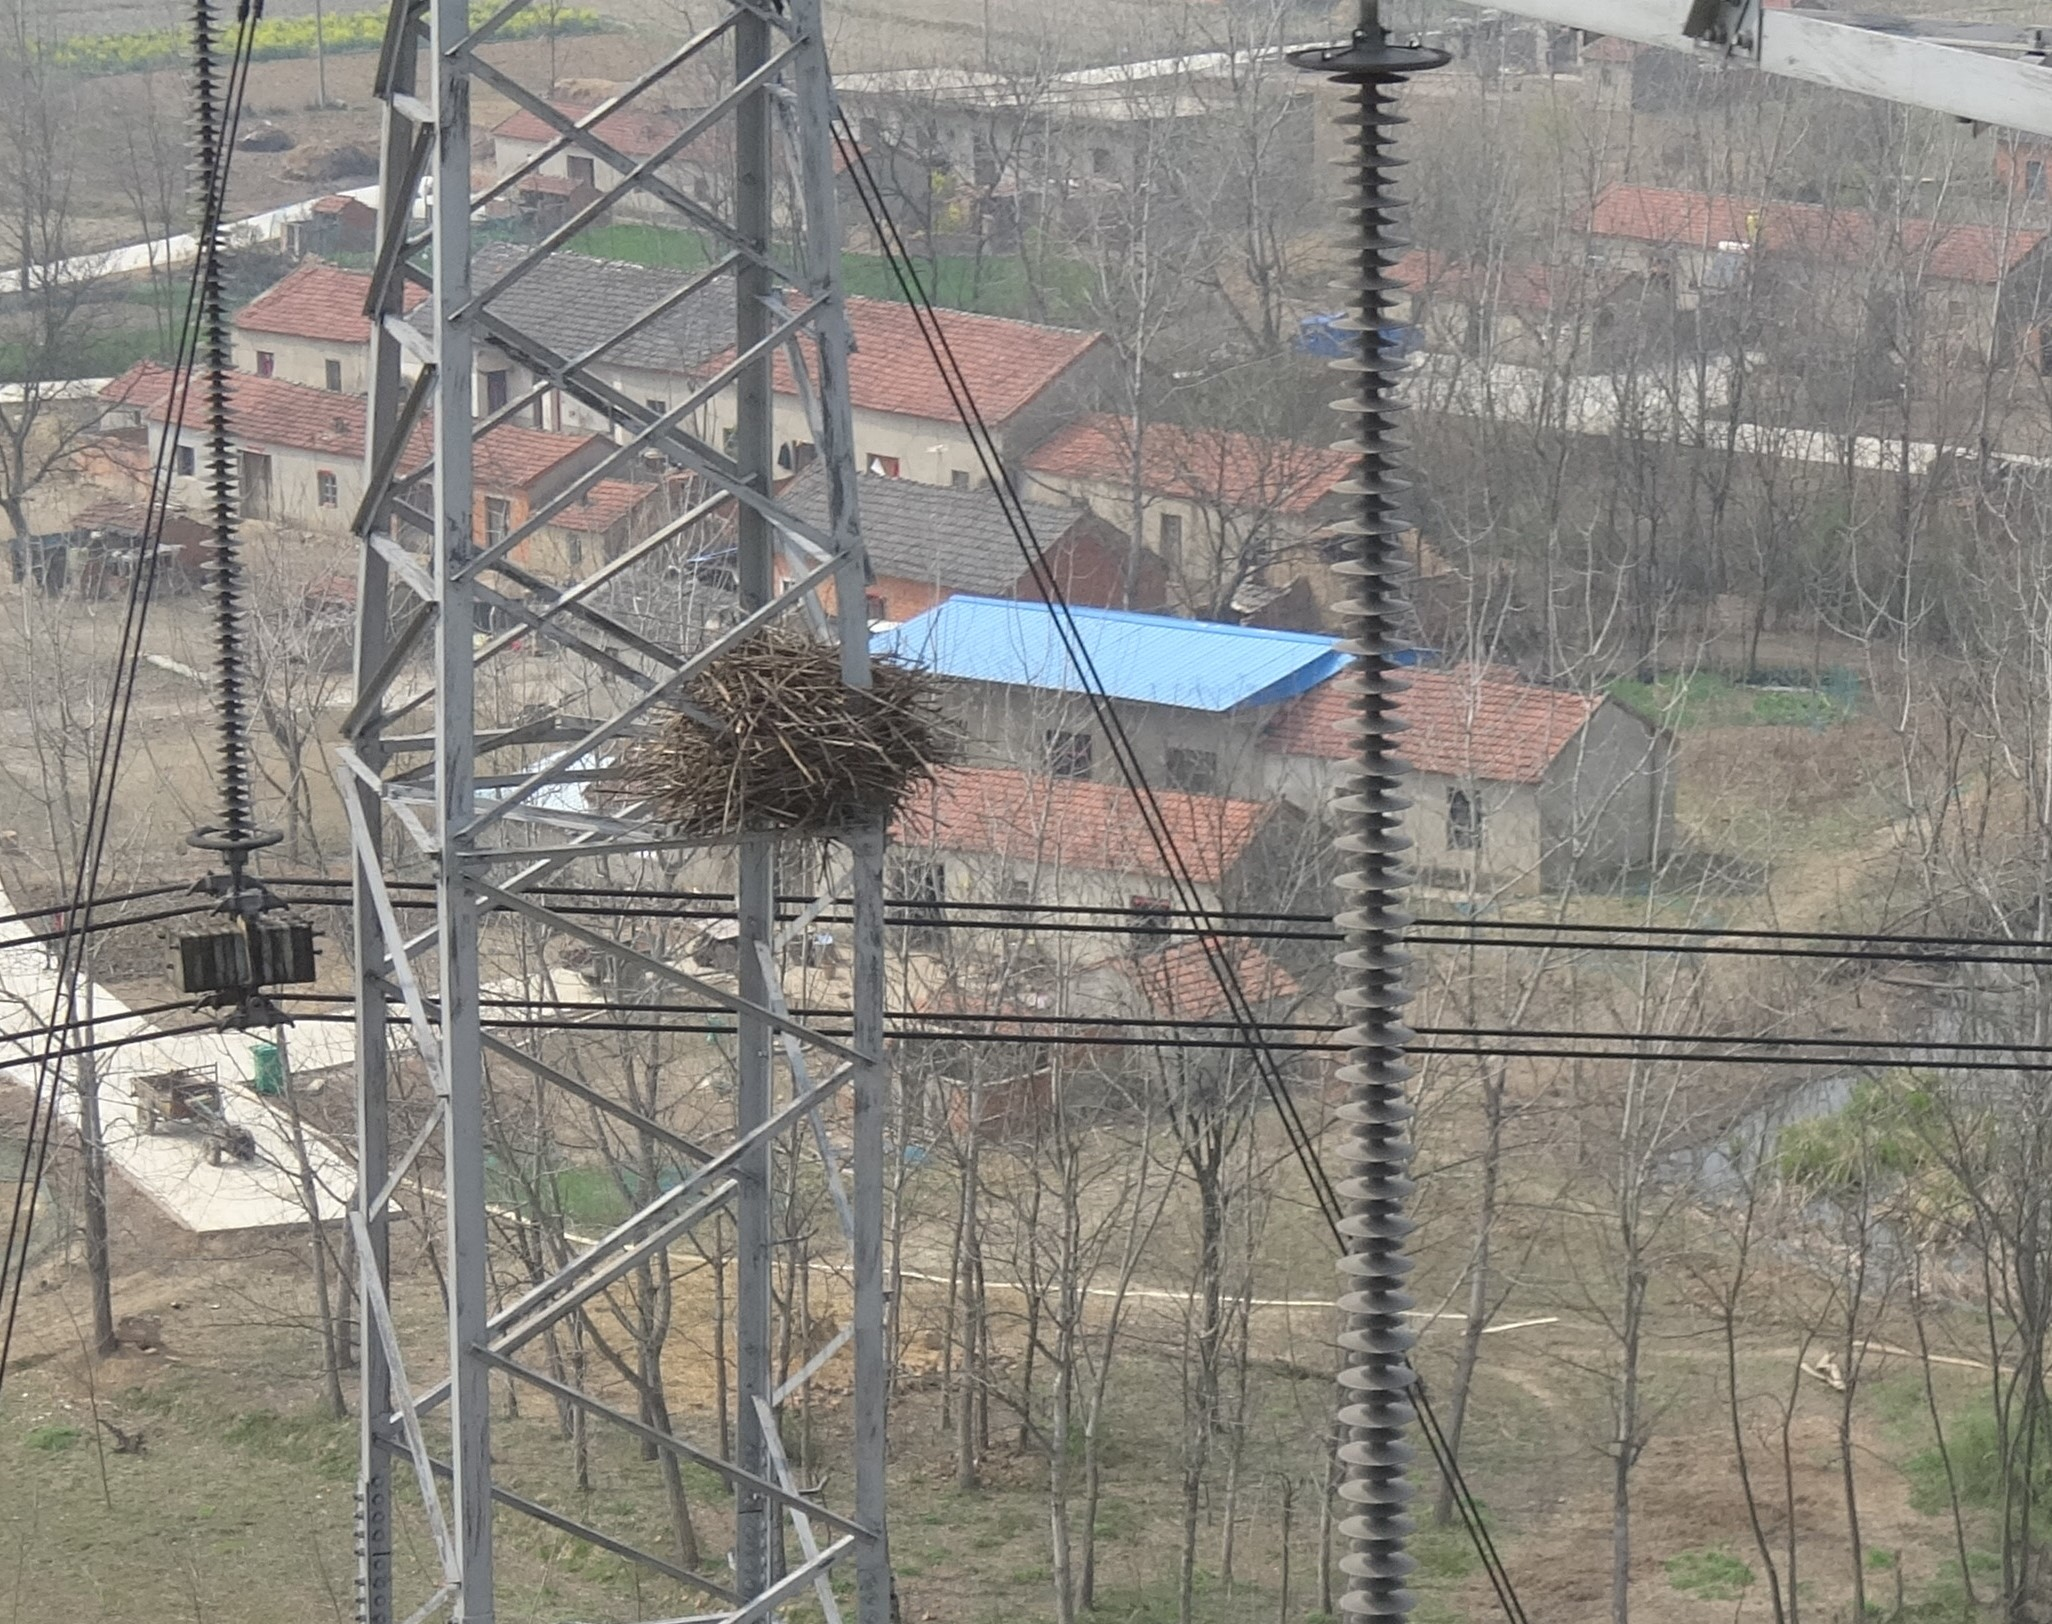niaowo: (616, 595, 978, 859)
